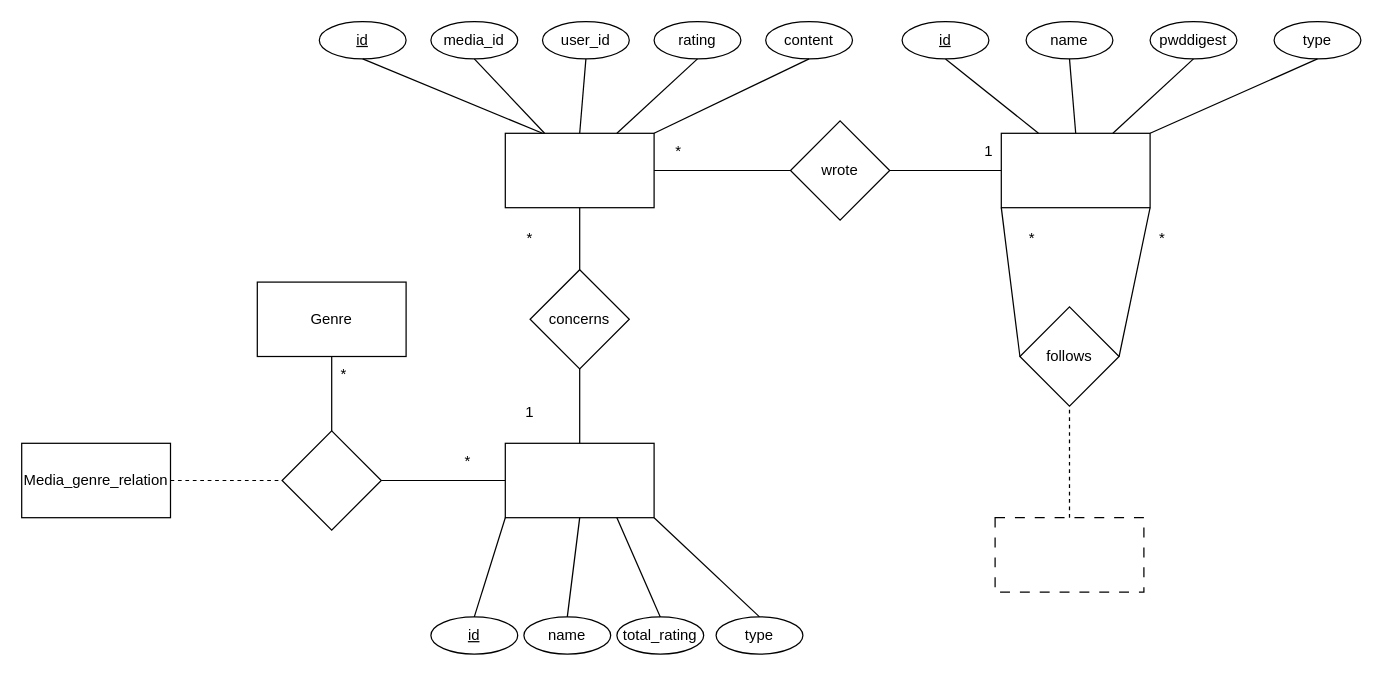
The diagram is 1383 pixels wide and 676 high, and some of its shapes have lost their labels. The box of each missing label's shape, as (x1, y1, x2, y2) in pixels:
has: (281, 430, 381, 530)
Media: (504, 442, 654, 518)
Review: (504, 132, 654, 208)
User: (1000, 132, 1150, 208)
User_follow_relation: (994, 516, 1144, 592)
